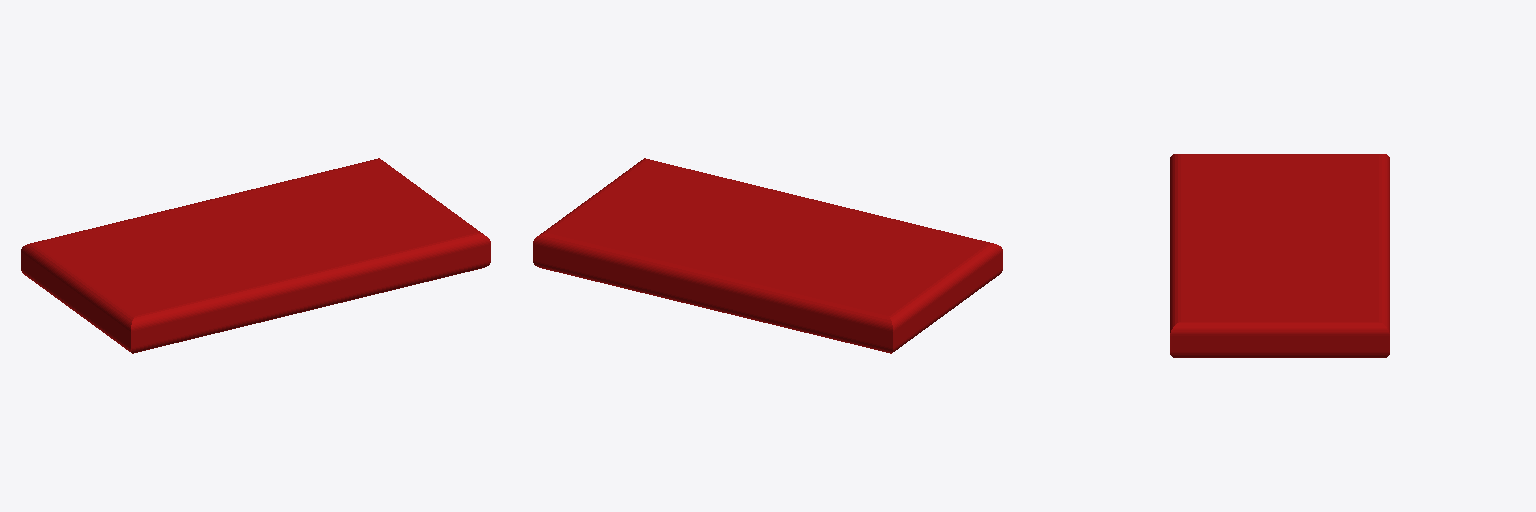
File: lift.obj
The picture shows the model from 3 angles: view 1: azimuth 30°, elevation 25°; view 2: azimuth 150°, elevation 25°; view 3: azimuth 270°, elevation 25°; orthographic projection.
Visible parts, largest first — view 1: |lift|Root|red_high_gloss_plastic; view 2: |lift|Root|red_high_gloss_plastic; view 3: |lift|Root|red_high_gloss_plastic.
Boxes of the visible parts, <box> form: |lift|Root|red_high_gloss_plastic: <box>21,158,490,353</box>; |lift|Root|red_high_gloss_plastic: <box>533,158,1002,353</box>; |lift|Root|red_high_gloss_plastic: <box>1170,154,1389,357</box>.
Bounding box in the file's own units: 0.159 × 0.015 × 0.084.